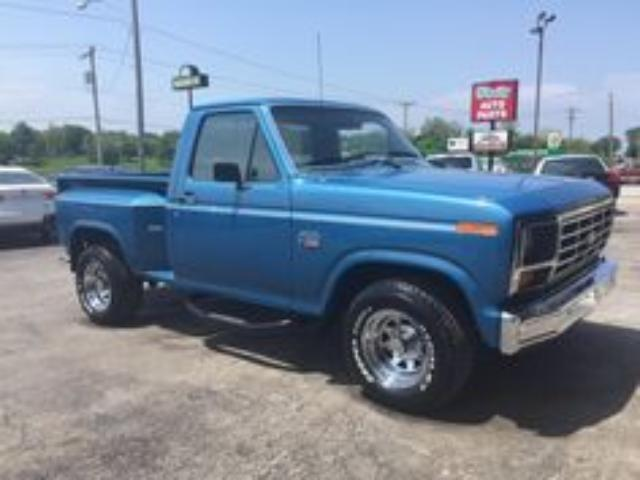pickup-truck: (53, 96, 620, 414)
